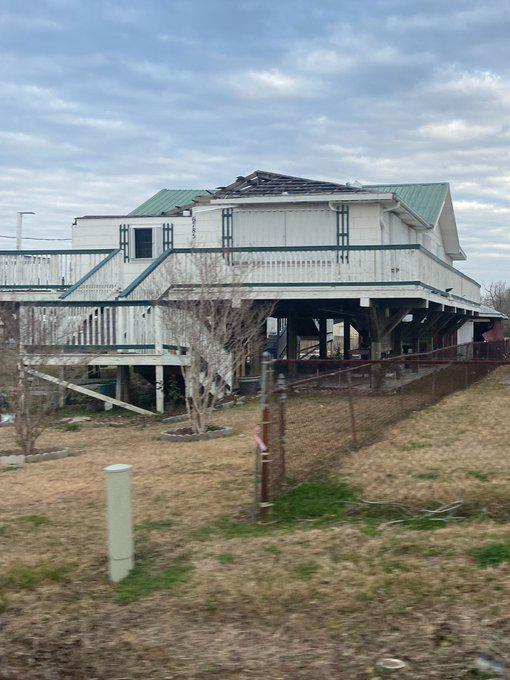major: (0, 157, 497, 406)
